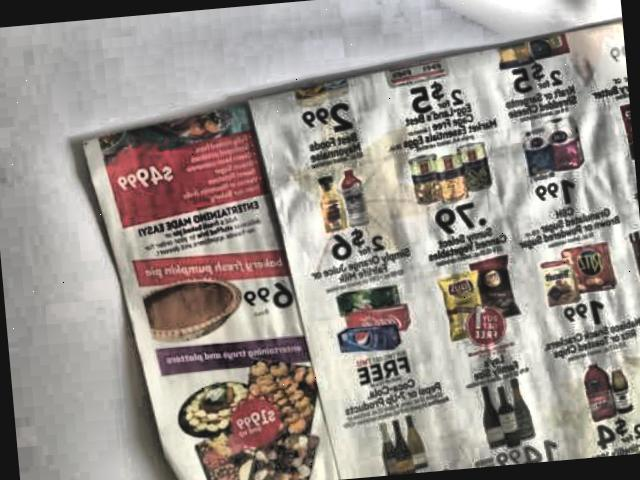Paper: (64, 13, 640, 480)
